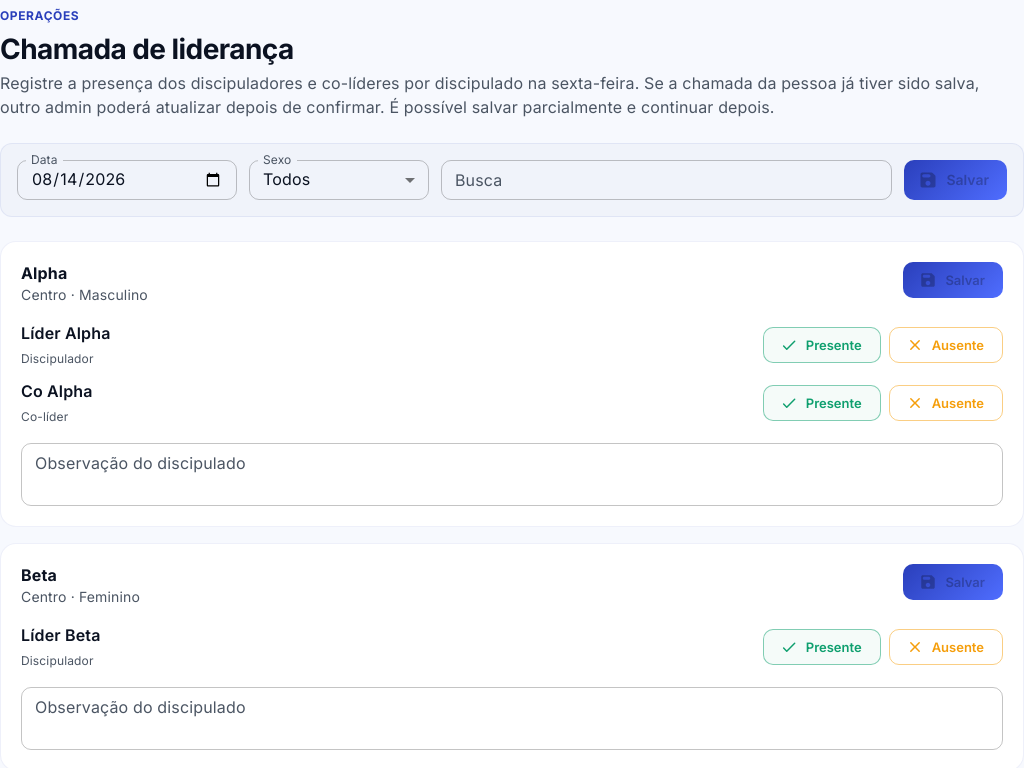
chamada de liderança › filtra a grade por parte do nome do discipulador ou co-líder
The image size is (1024, 768).
Expected: the heading "Alpha" is shown, top-left (21, 263), bottom-right (67, 283)
Expected: the heading "Beta" is shown, top-left (21, 565), bottom-right (57, 585)
Type "Co Alp" into the field with placeholder "Pesquisar discipulador ou co-líder".
click(667, 180); type("Co Alp")  # box top-left (441, 160), bottom-right (892, 200)
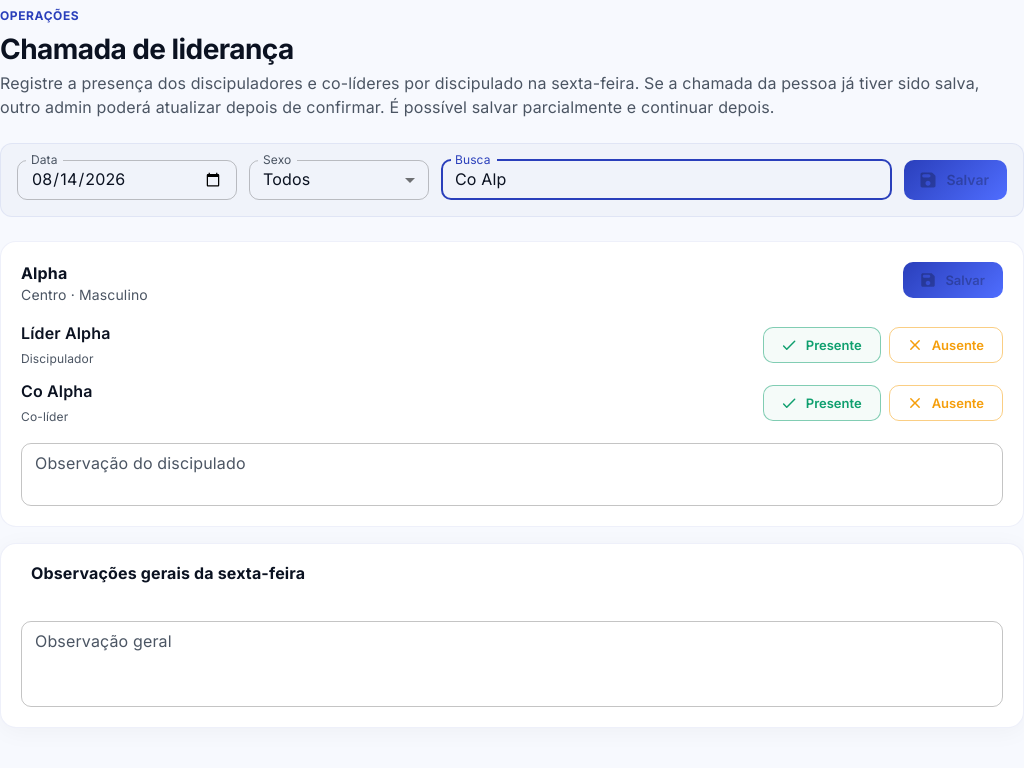
Expected: the heading "Alpha" is shown, top-left (21, 263), bottom-right (67, 283)
Result: the heading "Beta" is gone
Result: the text "Líder Beta" is gone
